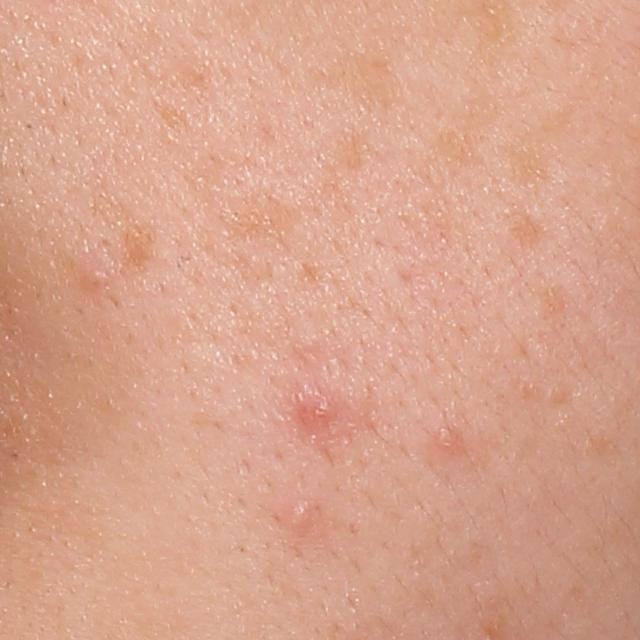comedo: (81, 264, 107, 292)
melasma: (213, 124, 373, 250), (310, 44, 408, 119), (437, 124, 488, 172), (118, 221, 157, 276)
papule: (292, 386, 336, 436), (288, 500, 317, 529), (436, 426, 457, 451)
